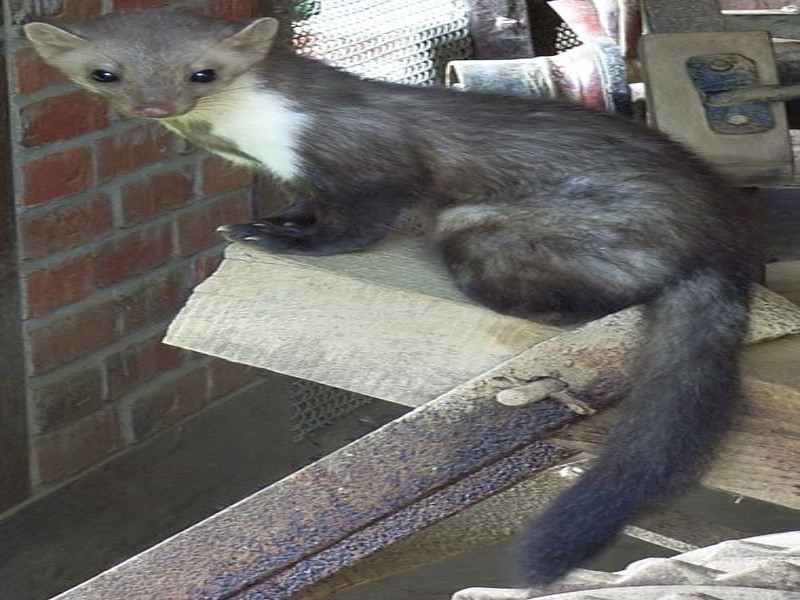minkish: (22, 9, 761, 575)
